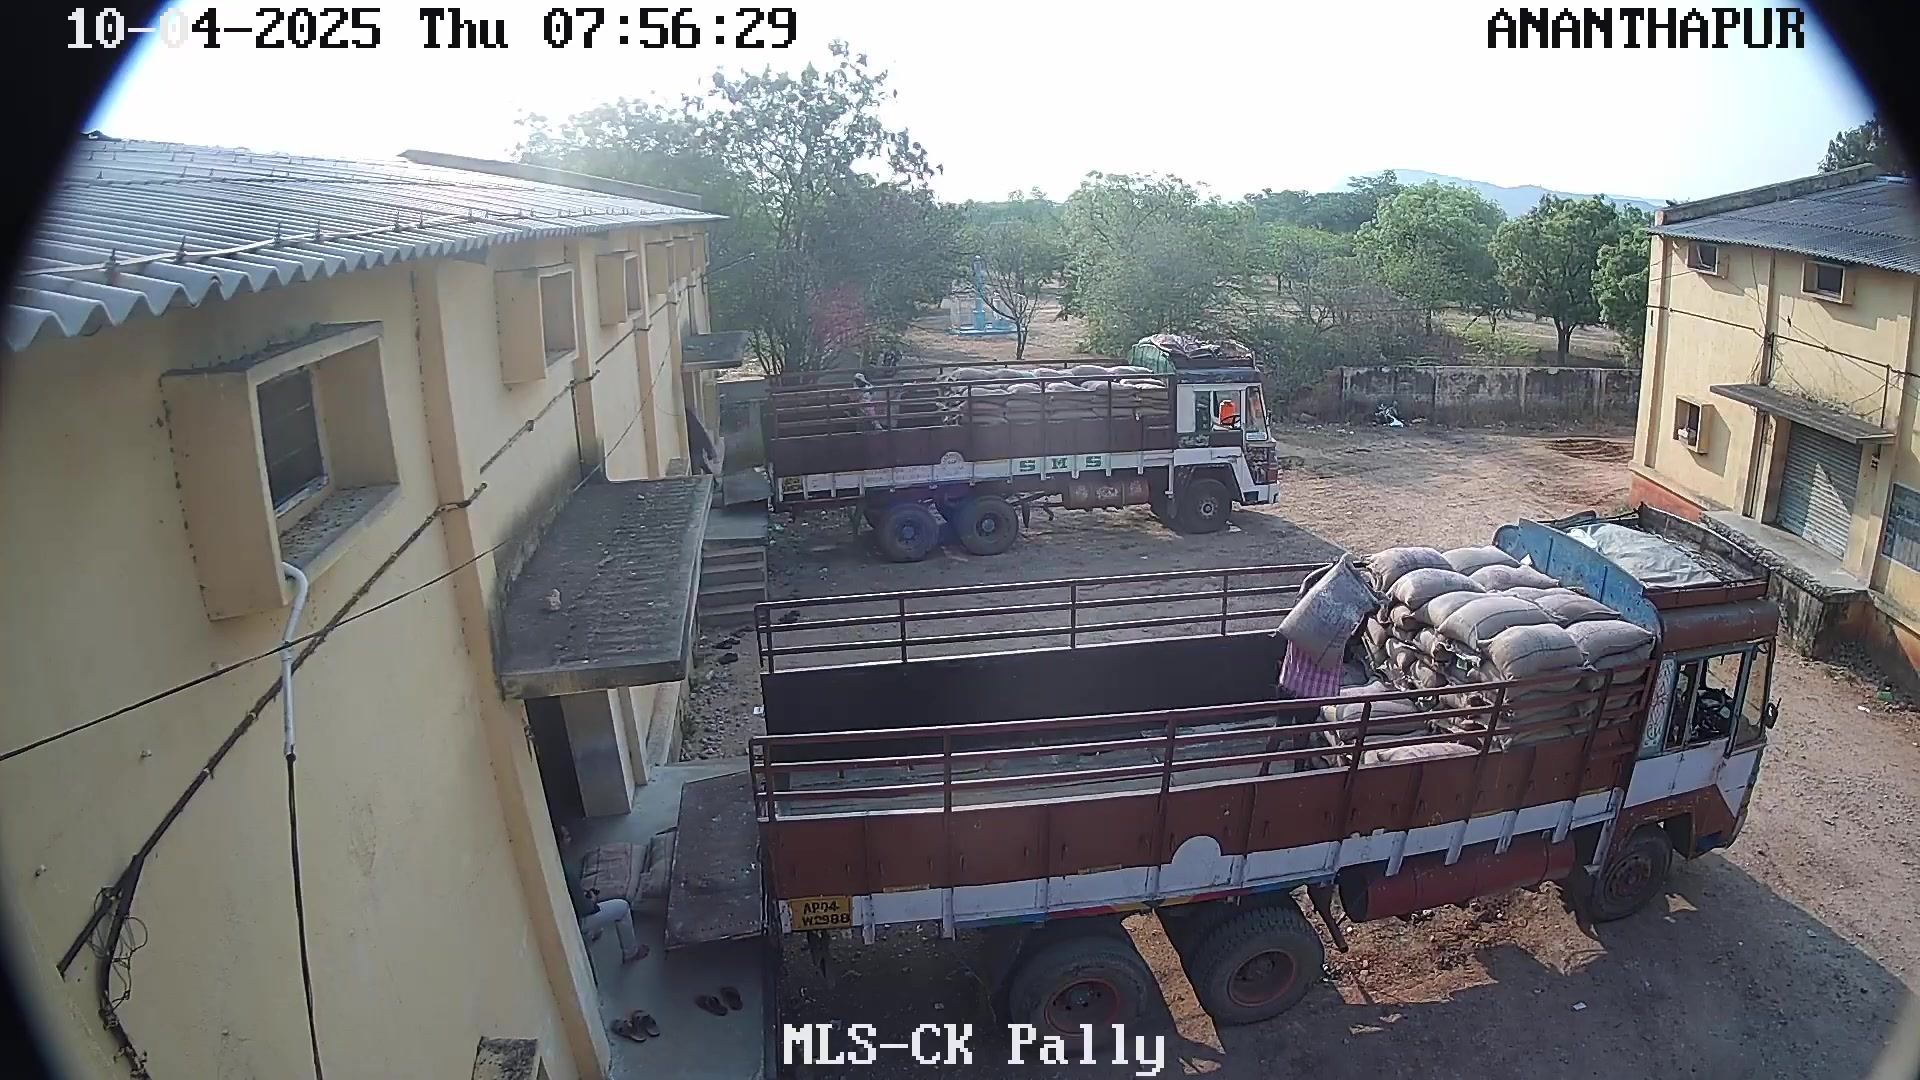gunny_bag_counting: (1284, 551, 1371, 675)
gunny_bag_ignore: (673, 318, 1311, 527), (1378, 530, 1739, 785), (1278, 698, 1396, 793)
